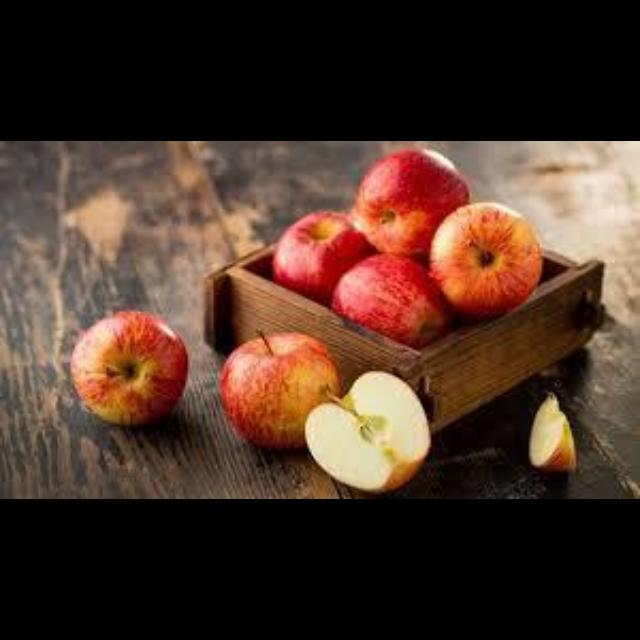apple: (305, 371, 429, 491), (220, 331, 341, 448), (70, 312, 188, 425), (429, 203, 542, 318), (350, 147, 467, 258), (331, 254, 450, 348), (271, 211, 371, 305), (529, 393, 574, 470)
